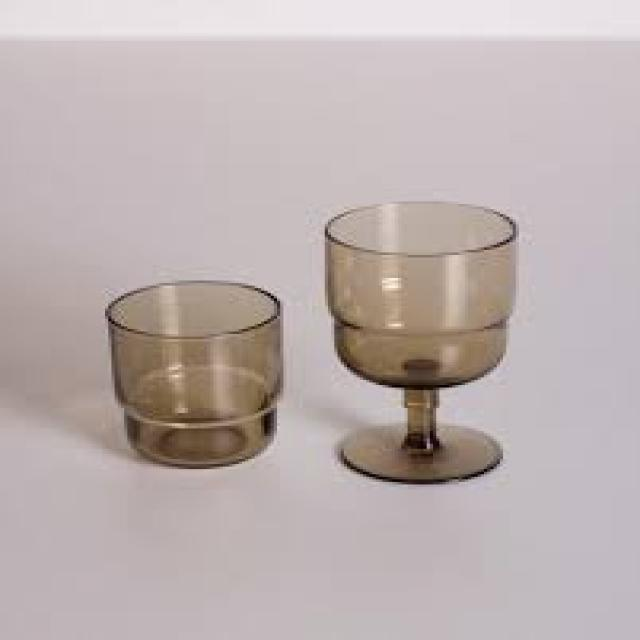Glass: (326, 198, 516, 484), (109, 280, 288, 468)
